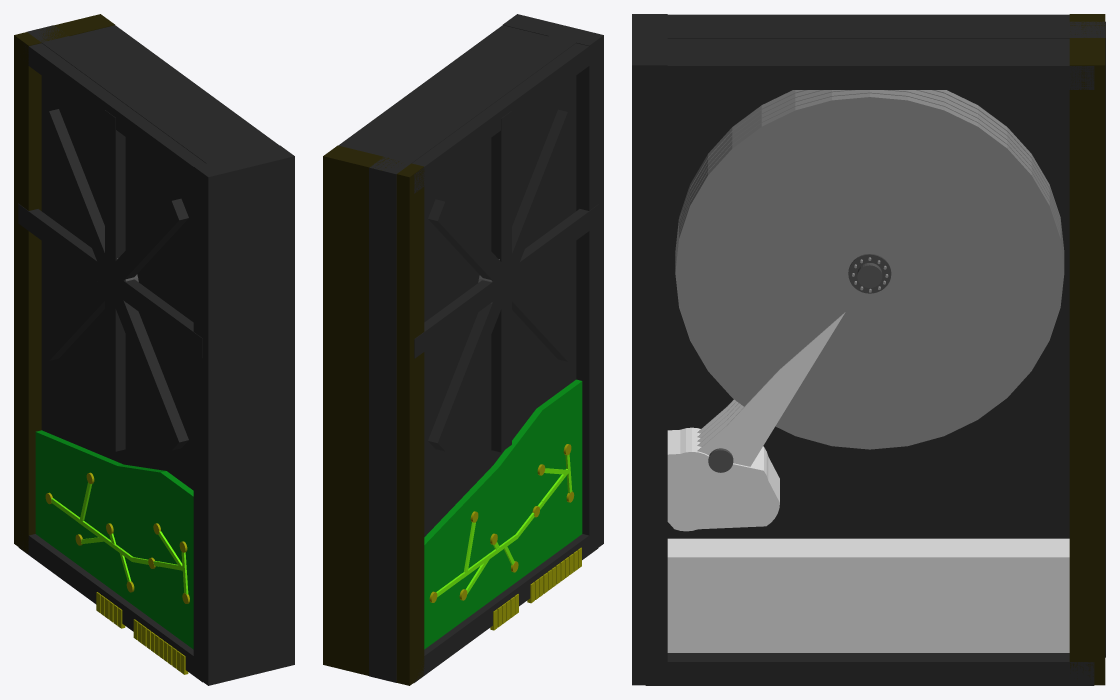
The model's file is HDD.gltf.
3 views of the same model, side by side, from view 1: azimuth 30°, elevation 25°; view 2: azimuth 150°, elevation 25°; view 3: azimuth 270°, elevation 25° (orthographic). The views are drawn at different scales.
Visible parts, largest first — view 1: Cube.001, Cube, Cube.014, Cube.002, Cube.003, Cube.010, Cube.012, Cube.011, Cube.013, Cube.004; view 2: Cube, Cube.002, Cube.014, Cube.001, Cube.003, Cube.013, Cube.012, Cube.010, Cube.011, Cube.004; view 3: Cylinder.004, Cube, Cube.044, Cube.003, Cube.002, Cube.001, Cube.004, Cylinder.020, Cube.005, Cylinder.003, Cylinder.002, Cylinder.001 (+2 smaller).
Boxes of the visible parts, x1,y1,x2,y2 form: Cube.001: (193,145,294,685); Cube: (27,25,247,490); Cube.014: (35,430,193,649); Cube.002: (14,14,114,553); Cube.003: (20,25,279,192); Cube.010: (41,109,188,450); Cube.012: (105,110,125,451); Cube.011: (18,203,202,357); Cube.013: (41,198,188,360); Cube.004: (18,531,202,682); Cube: (369,26,589,682); Cube.002: (323,145,424,685); Cube.014: (424,379,582,649); Cube.001: (503,14,603,553); Cube.003: (338,25,589,193); Cube.013: (428,109,575,451); Cube.012: (491,111,511,452); Cube.010: (428,199,575,361); Cube.011: (414,204,598,358); Cube.004: (414,534,598,682); Cylinder.004: (675,93,1064,449); Cube: (633,21,1105,657); Cube.044: (667,538,1069,652); Cube.003: (645,14,1094,89); Cube.002: (1069,14,1105,685); Cube.001: (632,14,667,685); Cube.004: (645,653,1094,685); Cylinder.020: (667,427,779,531); Cube.005: (697,312,845,466); Cylinder.003: (675,90,1064,267); Cylinder.002: (675,90,1064,263); Cylinder.001: (675,90,1064,258).
Bounding box in the file's own units: 0.7652 × 4.29 × 2.94.
